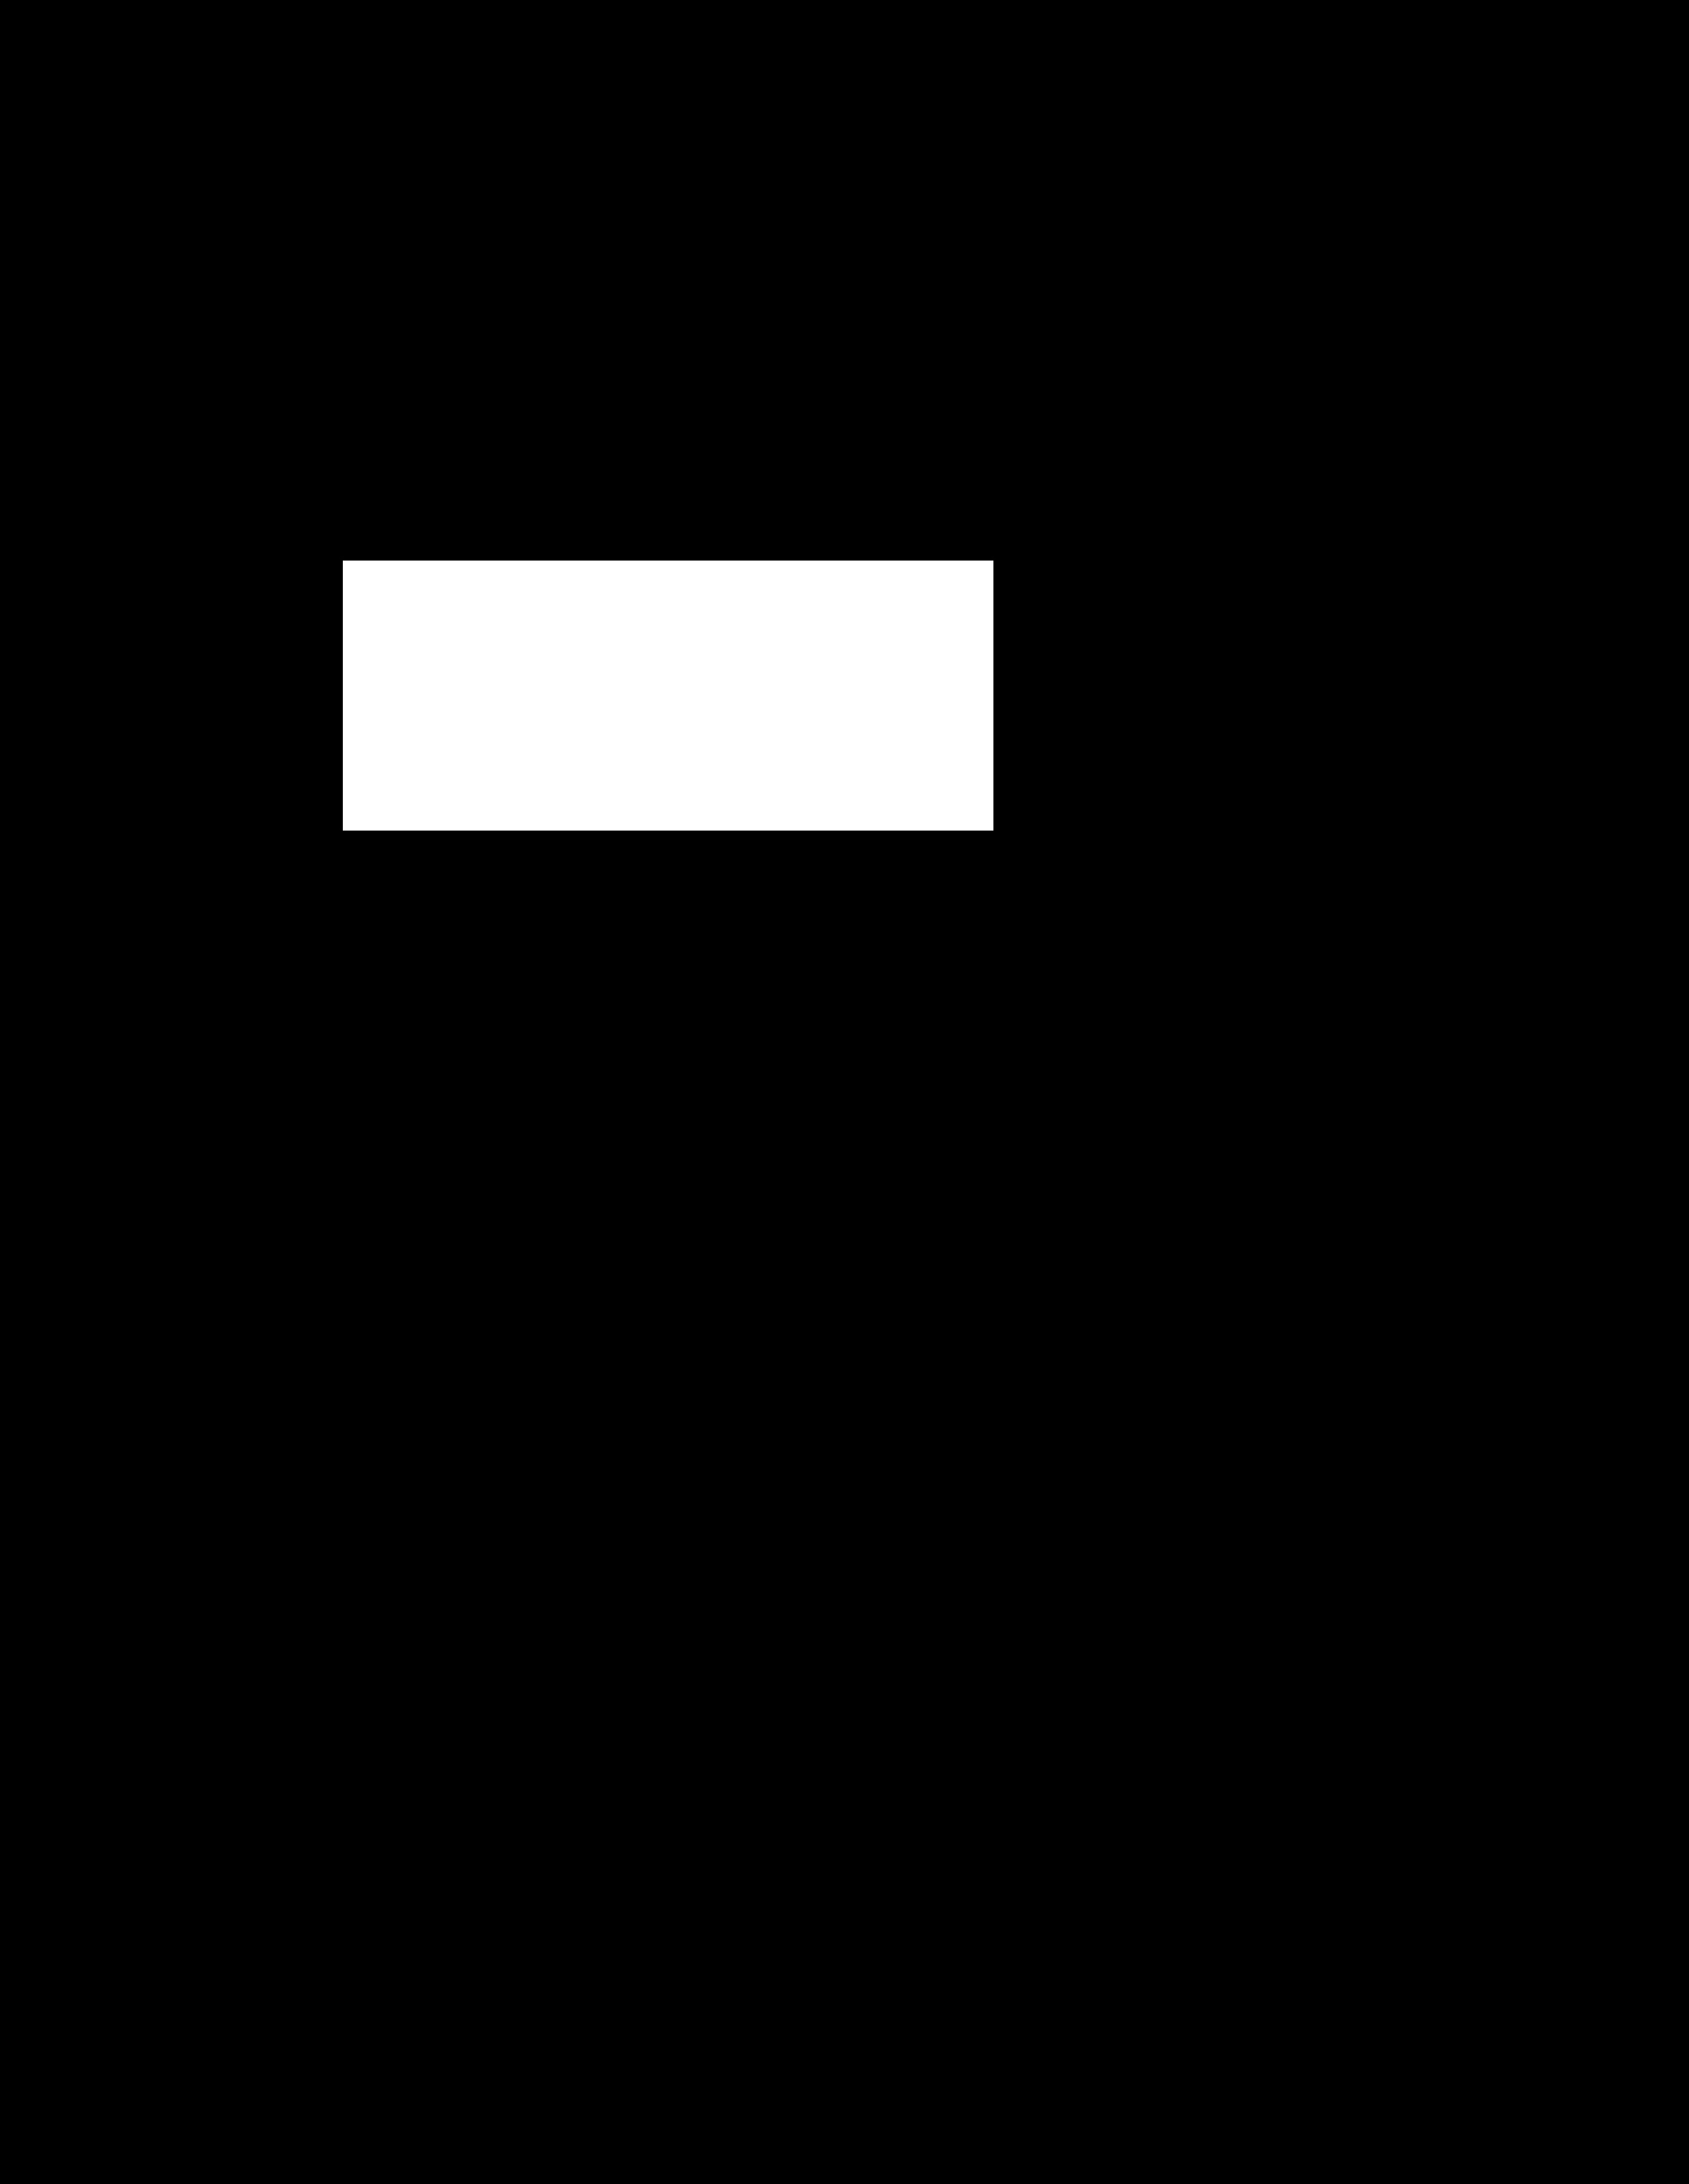table: (342, 560, 992, 830)
